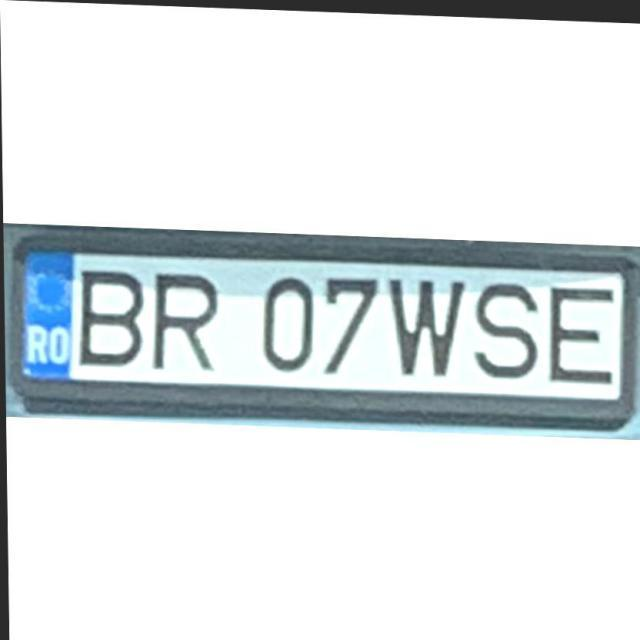license-plates: (21, 244, 633, 423)
